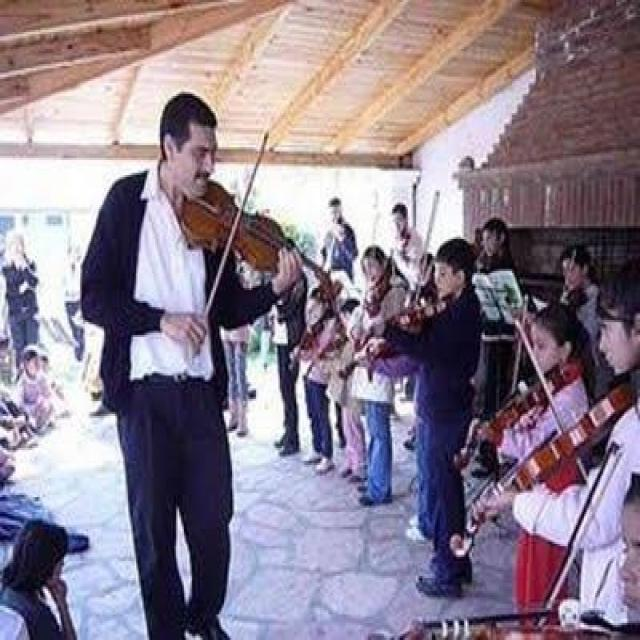violin: (449, 384, 640, 568), (179, 178, 334, 292), (454, 371, 556, 466), (354, 301, 451, 361), (304, 330, 353, 383), (286, 324, 318, 366)
